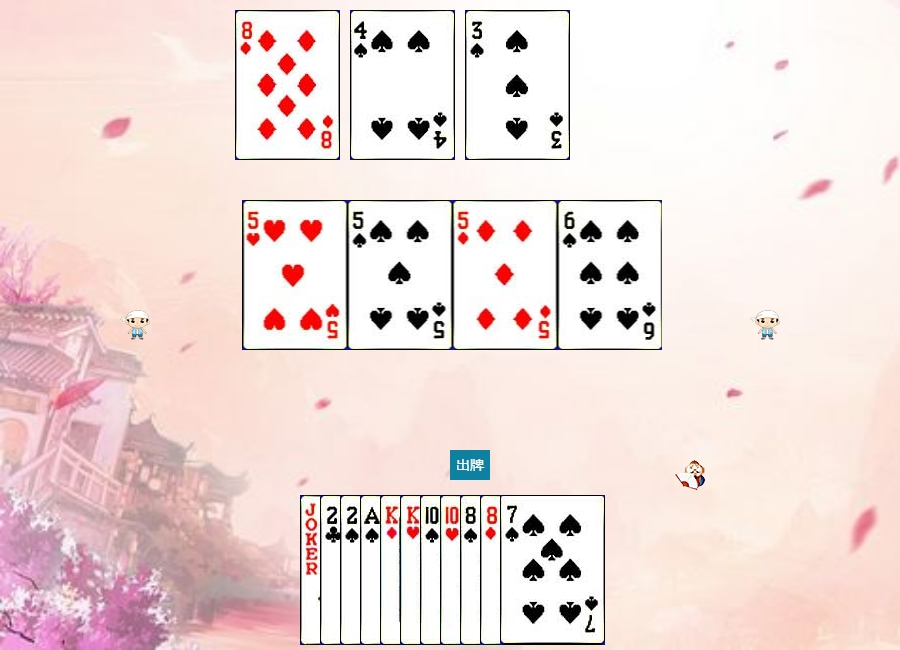10~3: (440, 495, 545, 645)
10~4: (420, 495, 525, 645)
13~1: (380, 495, 485, 645)
13~3: (400, 495, 505, 645)
14~4: (360, 495, 465, 645)
15~2: (320, 495, 425, 645)
15~4: (340, 495, 445, 645)
18~4: (300, 495, 405, 645)
3~4: (465, 10, 570, 160)
4~4: (350, 10, 455, 160)
5~1: (453, 200, 558, 350)
5~3: (243, 200, 348, 350)
5~4: (348, 200, 453, 350)
6~4: (558, 200, 663, 350)
7~4: (500, 495, 605, 645)
8~1: (235, 10, 340, 160), (480, 495, 585, 645)
8~4: (460, 495, 565, 645)
